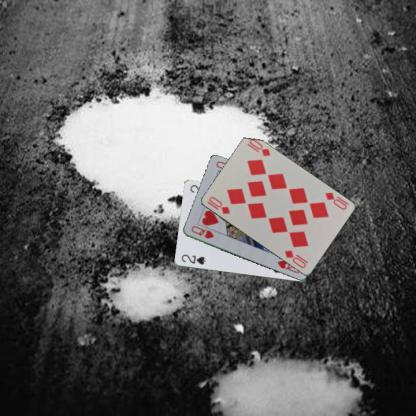10d: (323, 190, 350, 212), (206, 193, 231, 216)
2s: (178, 252, 207, 266)
Qh: (188, 223, 215, 240)
